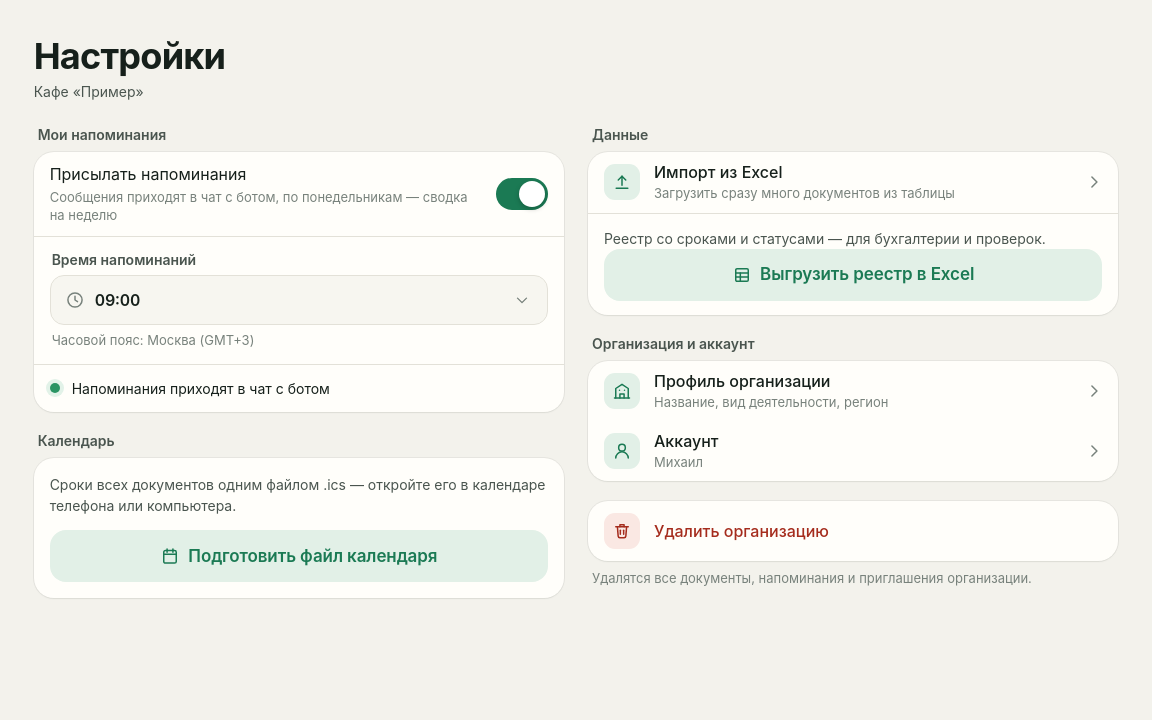
T-FE-PAGE: настройки напоминаний › сохраняет время напоминаний, выбранное в сетке значений
The width and height of the screenshot is (1152, 720).
Click the field labelled "Время напоминаний". click: (293,300)
box: [85,276,502,324]
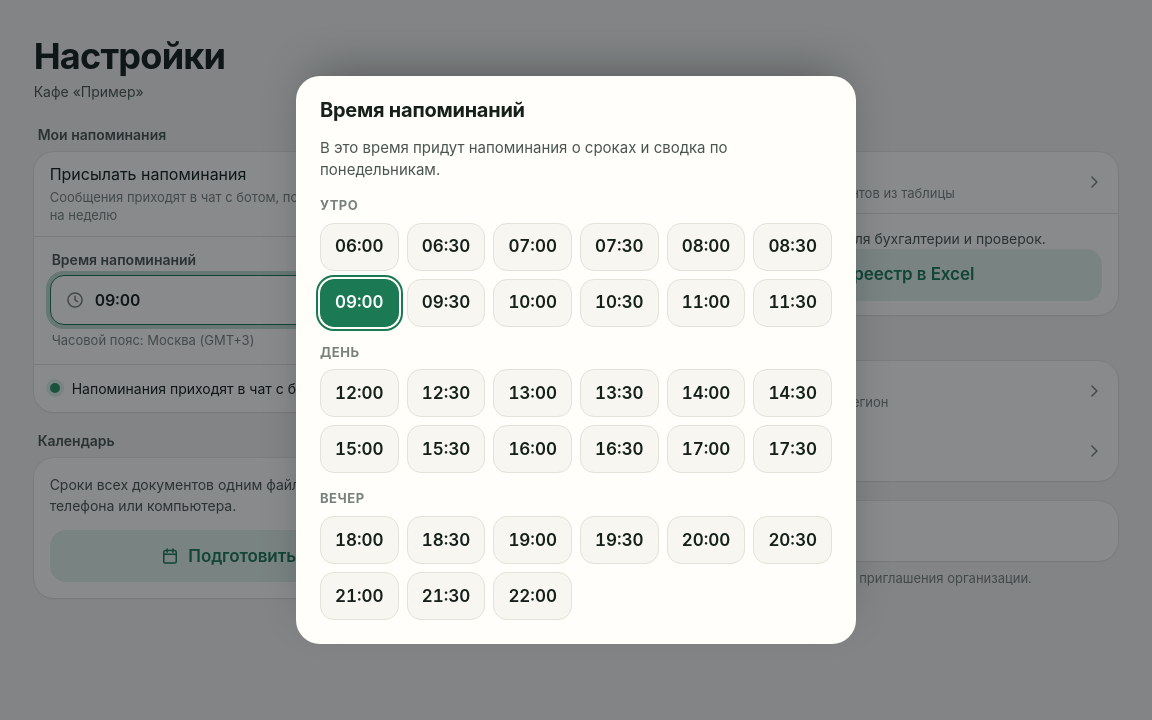
Click the button "18:30". click: (446,540)
box: [407,516,485,564]
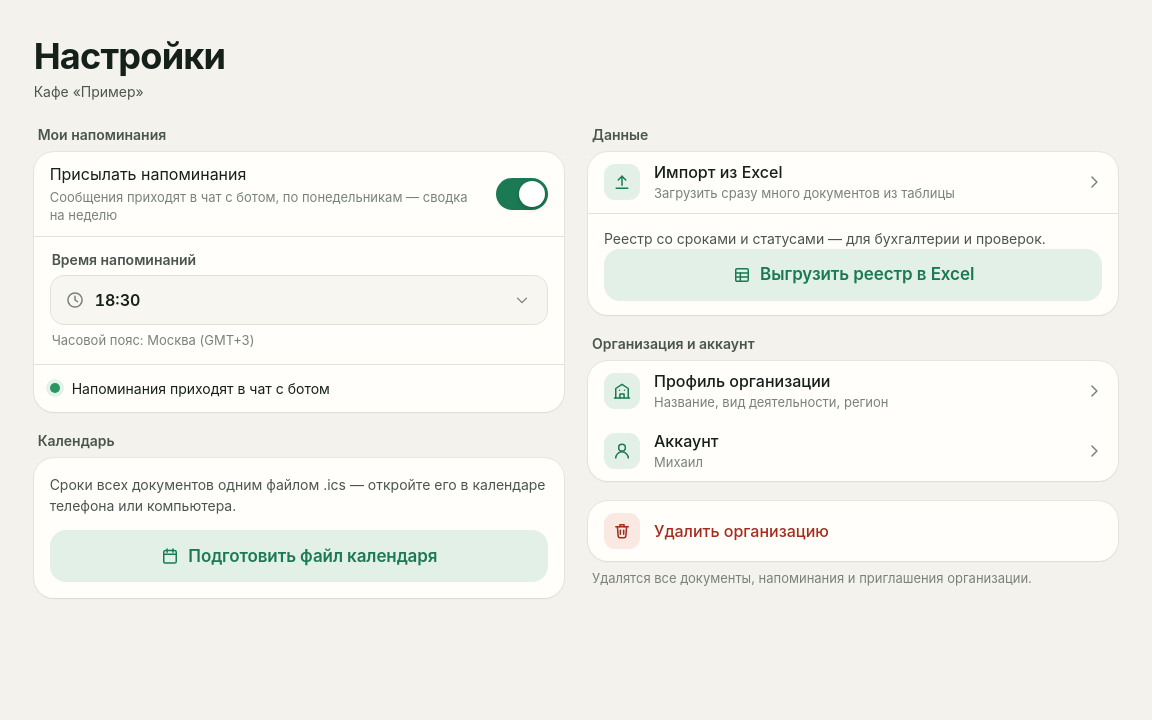
Expected: the field labelled "Время напоминаний" holds "18:30", [85,276,502,324]
